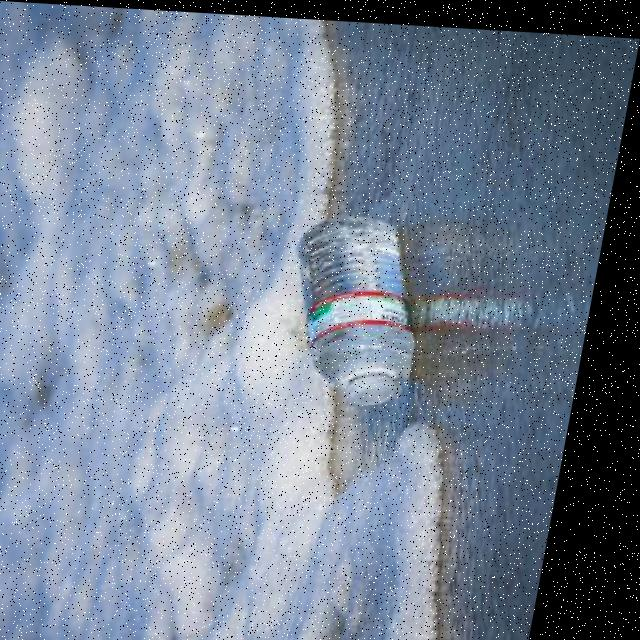litter: (346, 353, 423, 413)
